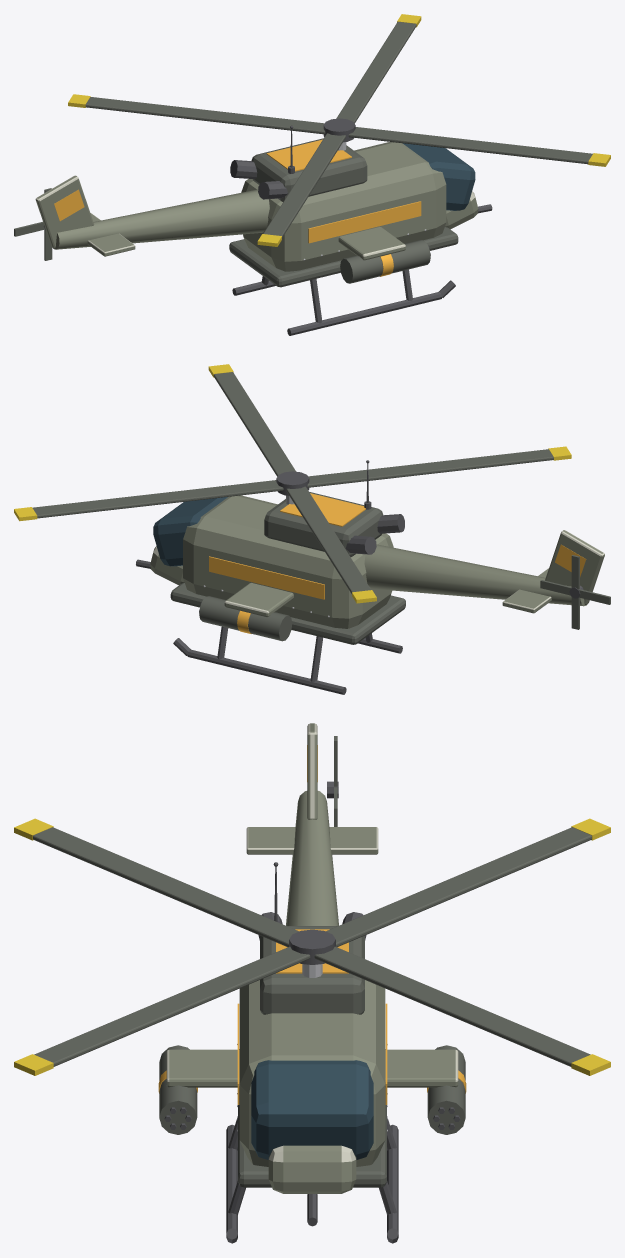
Rendered from gunship_orange.glb.
3 views of the same model, one above another, from view 1: azimuth 30°, elevation 25°; view 2: azimuth 150°, elevation 25°; view 3: azimuth 270°, elevation 25° (orthographic). The views are drawn at different scales.
Parts seen in each view (by area): view 1: Body, Rotor, TailRotor; view 2: Body, Rotor, TailRotor; view 3: Body, Rotor.
Part boxes in pixels (box(x1,y1,x2,y2)): Body: box(35, 125, 492, 335); Rotor: box(68, 14, 610, 246); TailRotor: box(14, 188, 52, 260); Body: box(136, 460, 604, 694); Rotor: box(14, 364, 571, 603); TailRotor: box(540, 555, 610, 629); Body: box(158, 723, 466, 1243); Rotor: box(14, 818, 610, 1075).
Size of the model in its own units: 5.72 by 2.16 by 4.09.
Materials: 1 (1 with a texture image).
